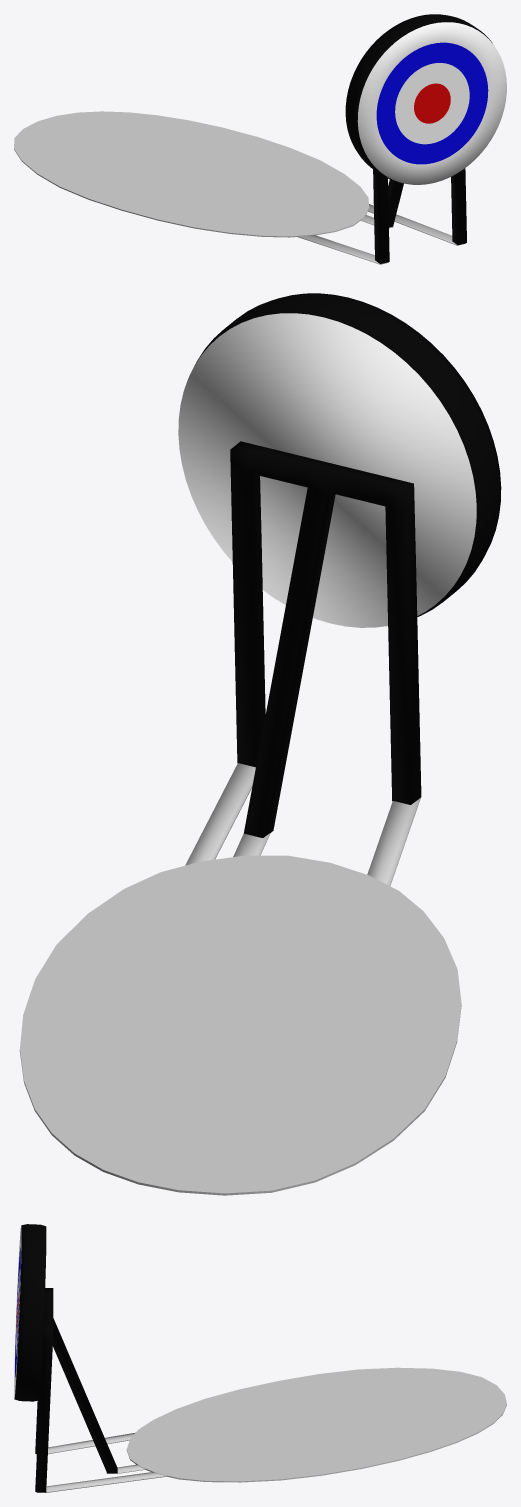
Rendered from taulu.obj.
3 renders of one model, top to bottom at view 1: azimuth 30°, elevation 25°; view 2: azimuth 150°, elevation 25°; view 3: azimuth 270°, elevation 25°, orthographic. The views are drawn at different scales.
Visible parts, largest first — view 1: cone3, cylinder1, cube2, cube4_copy5, cube4; view 2: cone3, cylinder1, cube2, cube4, cube4_copy5; view 3: cone3, cylinder1, cube2, cube4, cube4_copy5.
Part boxes in pixels (x1=…): cone3: x1=14, y1=111, x2=369, y2=237; cylinder1: x1=345, y1=14, x2=506, y2=184; cube2: x1=373, y1=168, x2=466, y2=263; cube4_copy5: x1=297, y1=235, x2=388, y2=264; cube4: x1=368, y1=204, x2=465, y2=245; cone3: x1=19, y1=855, x2=461, y2=1195; cylinder1: x1=178, y1=293, x2=501, y2=627; cube2: x1=230, y1=441, x2=421, y2=837; cube4: x1=185, y1=763, x2=255, y2=865; cube4_copy5: x1=367, y1=798, x2=420, y2=885; cone3: x1=126, y1=1367, x2=506, y2=1482; cylinder1: x1=14, y1=1224, x2=46, y2=1401; cube2: x1=35, y1=1288, x2=117, y2=1492; cube4: x1=36, y1=1472, x2=166, y2=1492; cube4_copy5: x1=36, y1=1432, x2=135, y2=1454.
Bounding box in the file's own units: 3.8 × 3.03 × 5.65.
